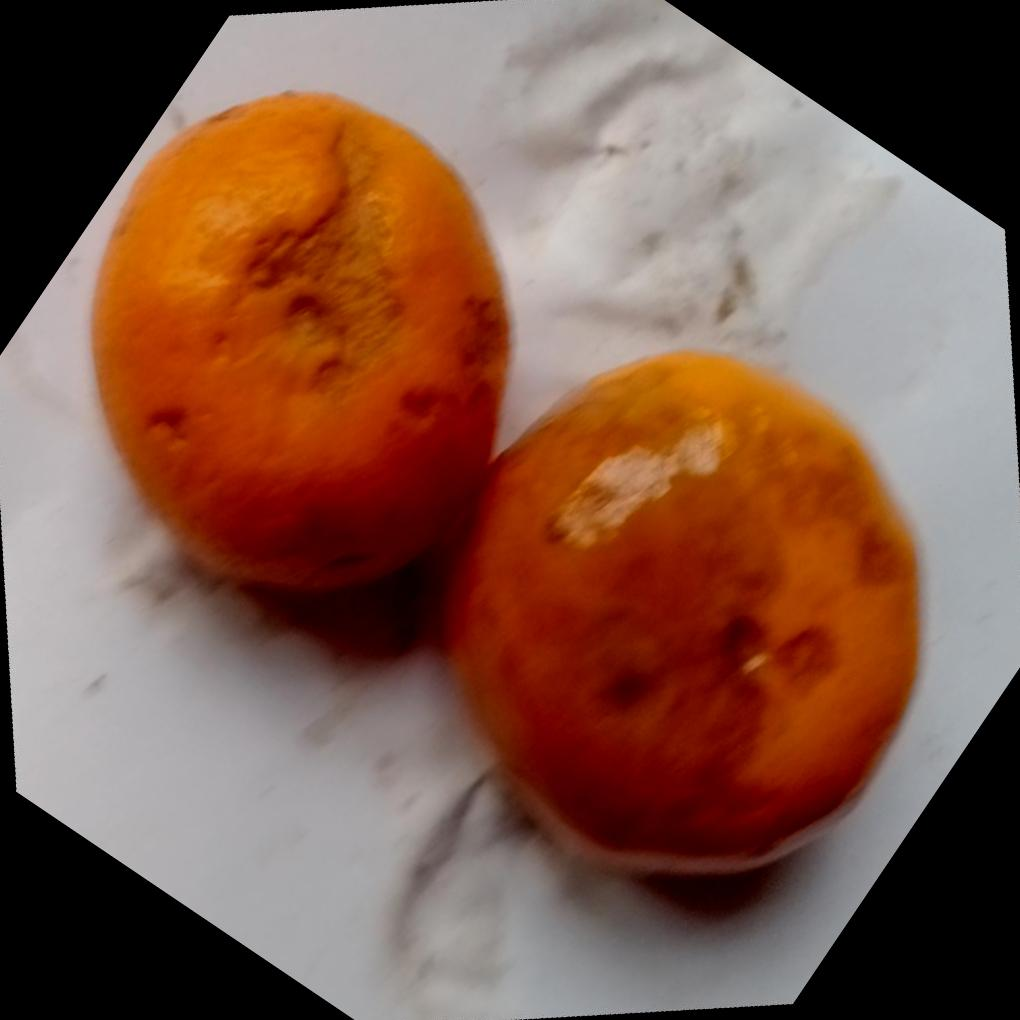FreshOrange: (87, 90, 924, 879)
